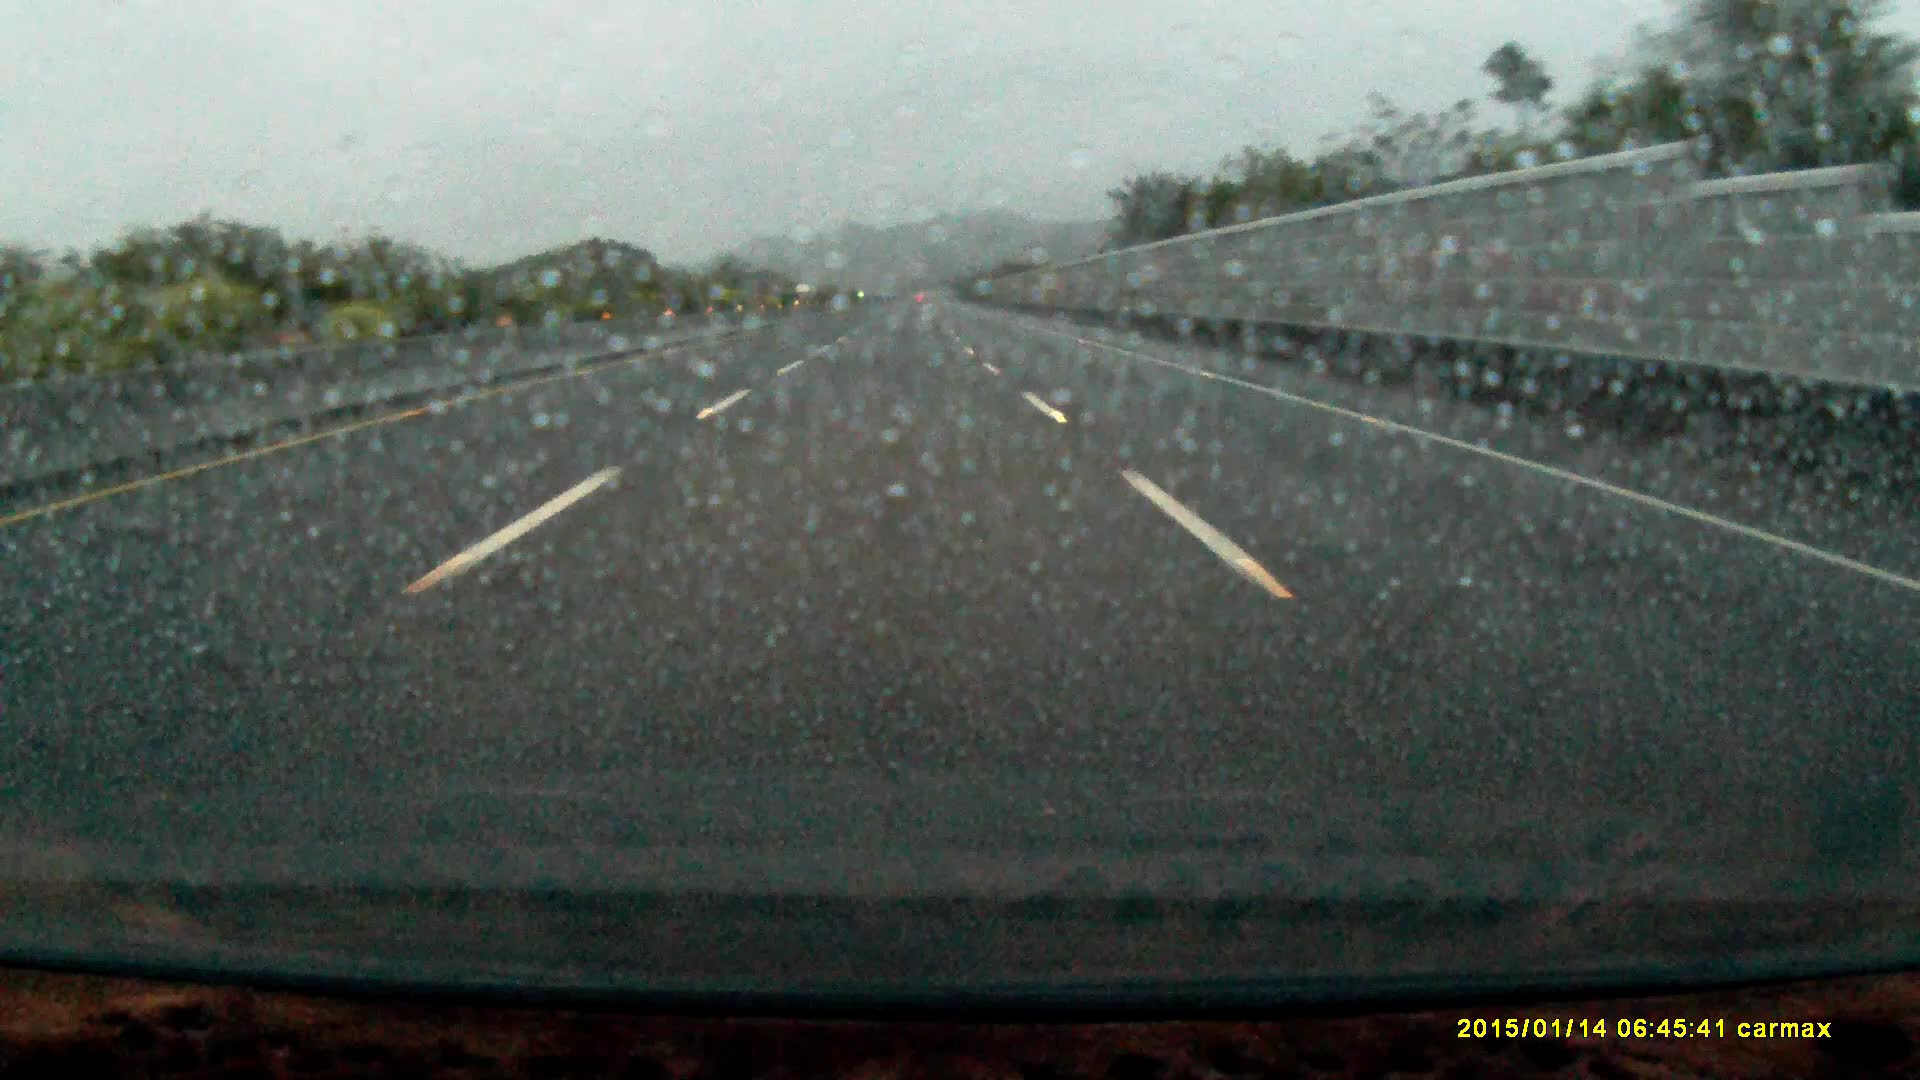vehicle: (793, 284, 818, 309)
